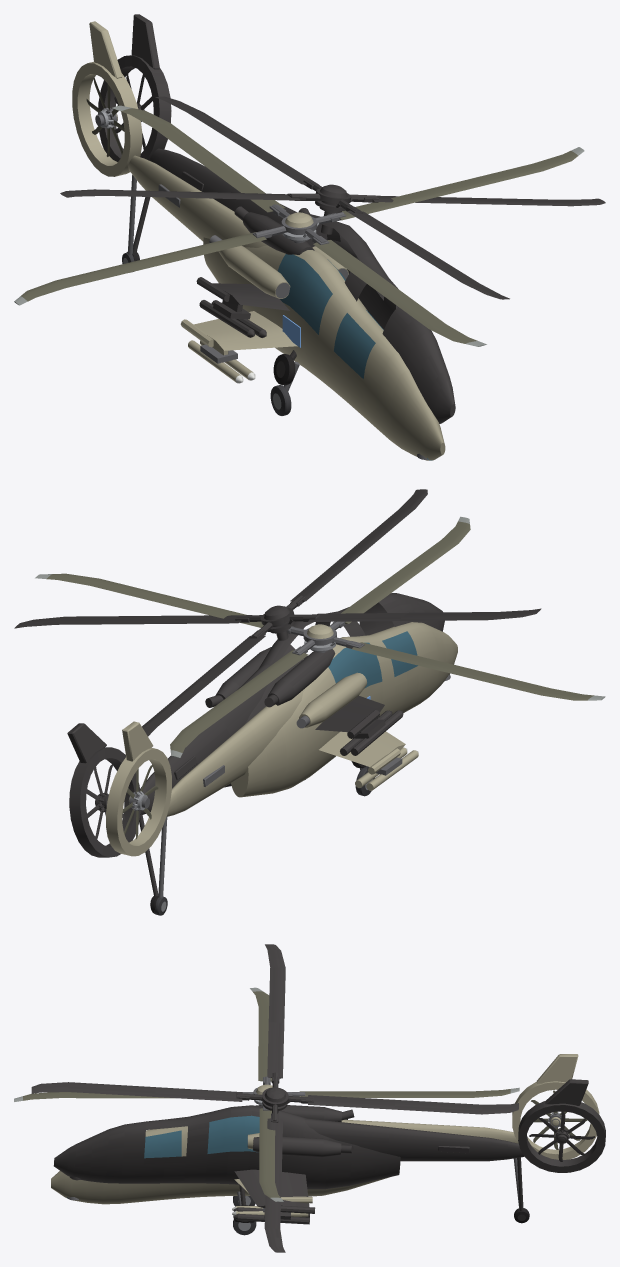
The model's file is scoutHelicopter__oh_1.glb.
3 views of the same model, one above another, from view 1: azimuth 30°, elevation 25°; view 2: azimuth 150°, elevation 25°; view 3: azimuth 270°, elevation 25° (orthographic). The views are drawn at different scales.
Parts seen in each view (by area): view 1: Wreck, Fuselage_Mesh, Rotor_Main_Mesh, Fenestron_Mesh, Stub_Wings_Stores_Mesh, Engines_Mesh, Landing_Gear_Mesh, Rotor_Tail_Mesh; view 2: Wreck, Fuselage_Mesh, Rotor_Main_Mesh, Fenestron_Mesh, Stub_Wings_Stores_Mesh, Engines_Mesh, Landing_Gear_Mesh, Rotor_Tail_Mesh; view 3: Wreck, Fuselage_Mesh, Rotor_Main_Mesh, Fenestron_Mesh, Landing_Gear_Mesh, Stub_Wings_Stores_Mesh, Rotor_Tail_Mesh.
Boxes of the visible parts, <box> form: Wreck: <box>60,14,605,423</box>; Fuselage_Mesh: <box>128,155,445,460</box>; Rotor_Main_Mesh: <box>14,105,584,346</box>; Fenestron_Mesh: <box>72,21,142,176</box>; Stub_Wings_Stores_Mesh: <box>180,311,297,383</box>; Engines_Mesh: <box>209,235,348,298</box>; Landing_Gear_Mesh: <box>122,175,299,415</box>; Rotor_Tail_Mesh: <box>86,78,124,156</box>; Wreck: <box>14,489,541,913</box>; Fuselage_Mesh: <box>167,622,457,816</box>; Rotor_Main_Mesh: <box>35,516,605,757</box>; Fenestron_Mesh: <box>106,721,171,856</box>; Stub_Wings_Stores_Mesh: <box>319,731,418,790</box>; Engines_Mesh: <box>296,659,367,728</box>; Landing_Gear_Mesh: <box>153,766,374,915</box>; Rotor_Tail_Mesh: <box>122,764,158,839</box>; Wreck: <box>31,944,605,1252</box>; Fuselage_Mesh: <box>51,1115,518,1204</box>; Rotor_Main_Mesh: <box>14,987,519,1201</box>; Fenestron_Mesh: <box>512,1054,599,1159</box>; Landing_Gear_Mesh: <box>233,1158,528,1235</box>; Stub_Wings_Stores_Mesh: <box>232,1179,312,1216</box>; Rotor_Tail_Mesh: <box>531,1090,587,1149</box>.
Size of what is drawn, in the model's own units: 12.01 by 4.88 by 13.58.
